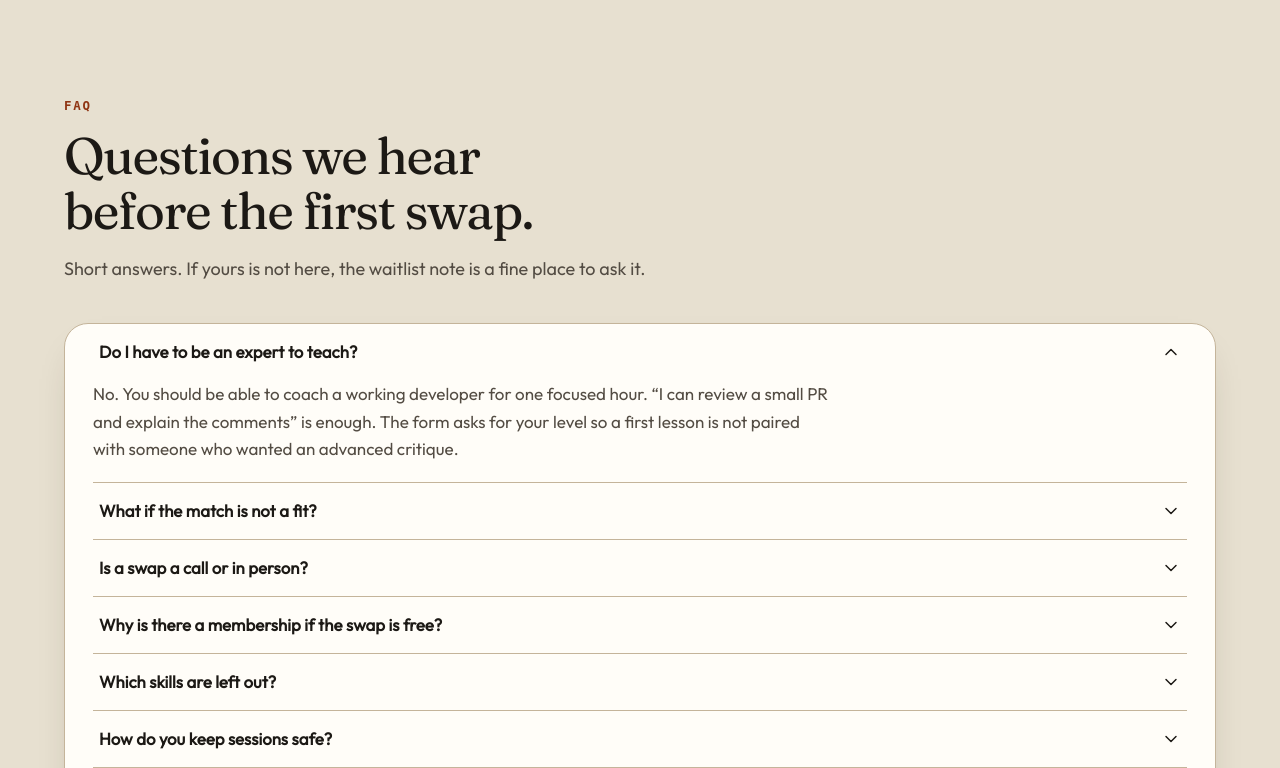
it: FAQ accordion keyboard behavior › opens the first answer and toggles it with the mouse and Enter
Expected: the element named "expert to teach" is shown, [93, 383, 828, 459]
Click the button "Do I have to be an expert to teach?".
click(228, 352)  # box [93, 324, 1187, 380]
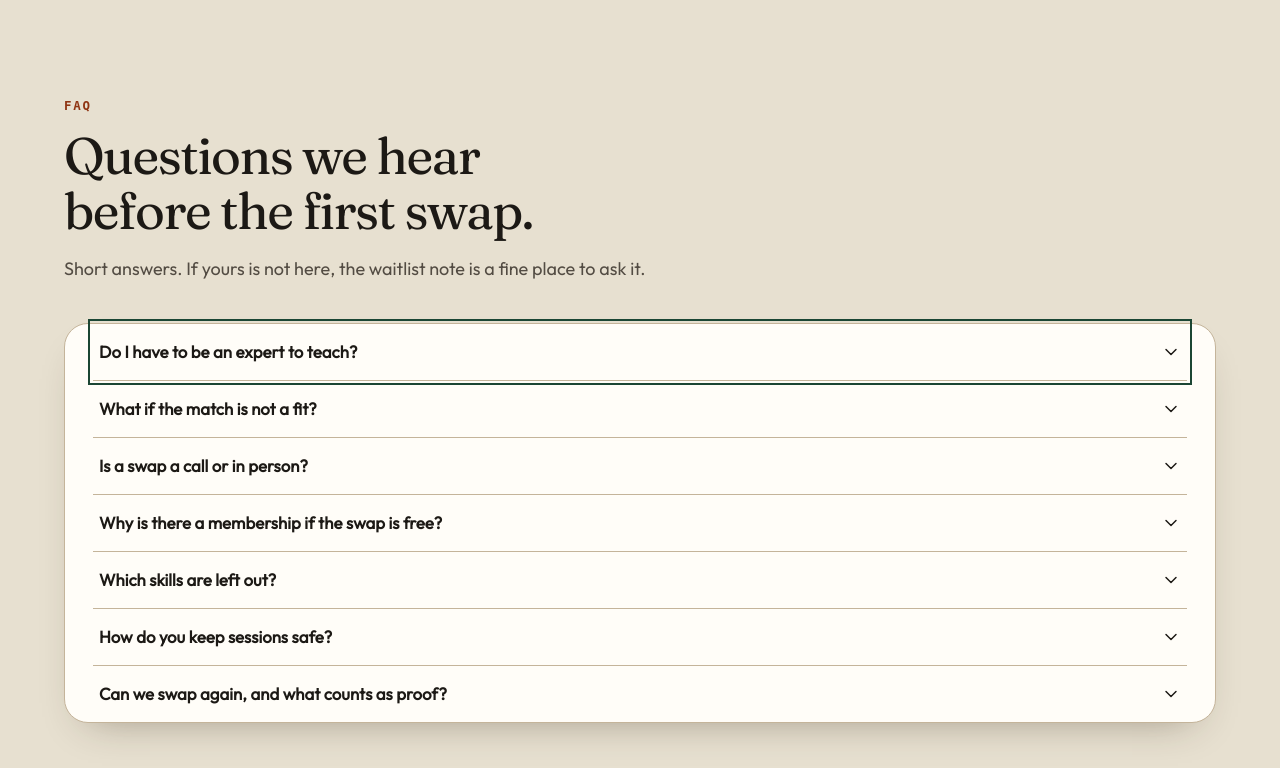
Result: the button "Do I have to be an expert to teach?" is collapsed at [93, 324, 1187, 380]
Press Enter
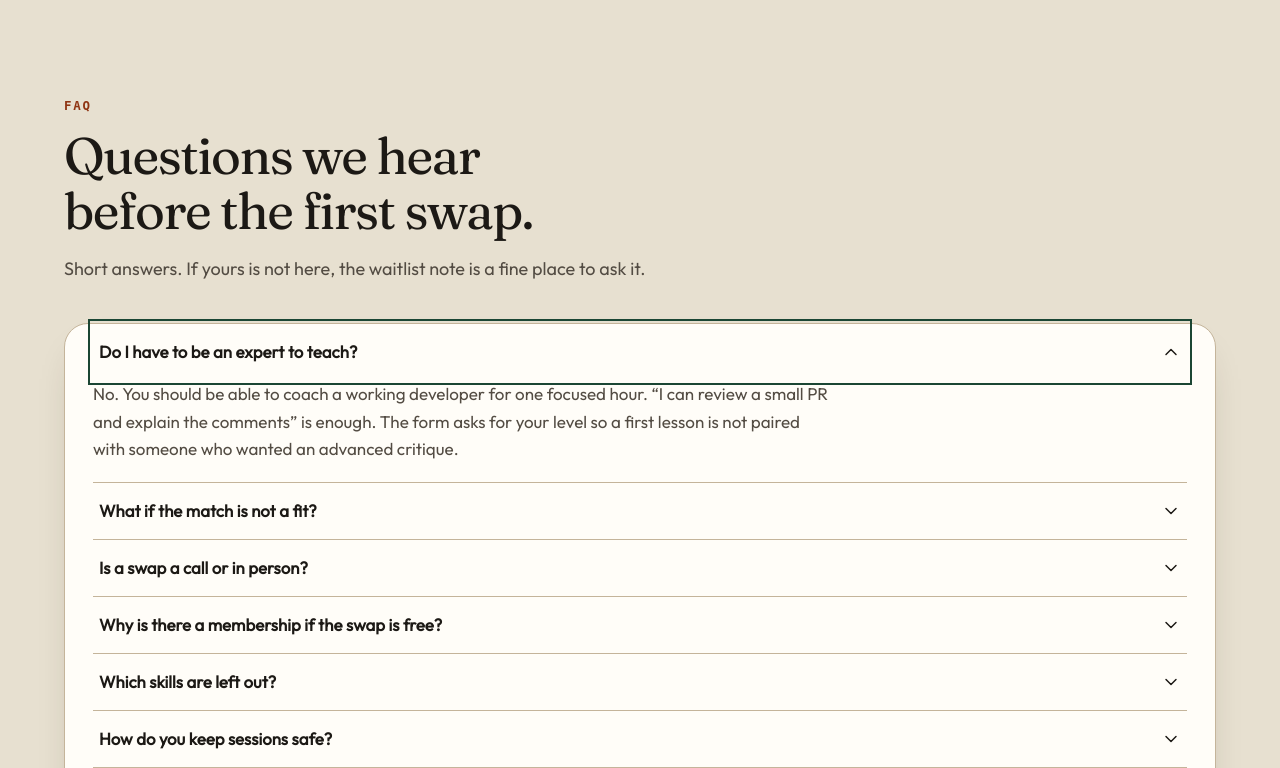
Result: the button "Do I have to be an expert to teach?" is expanded at [93, 324, 1187, 380]
